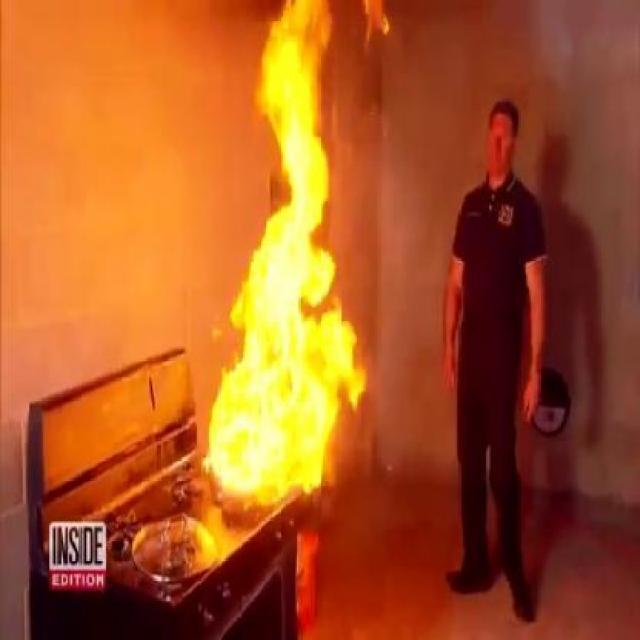fire: (213, 32, 369, 503)
